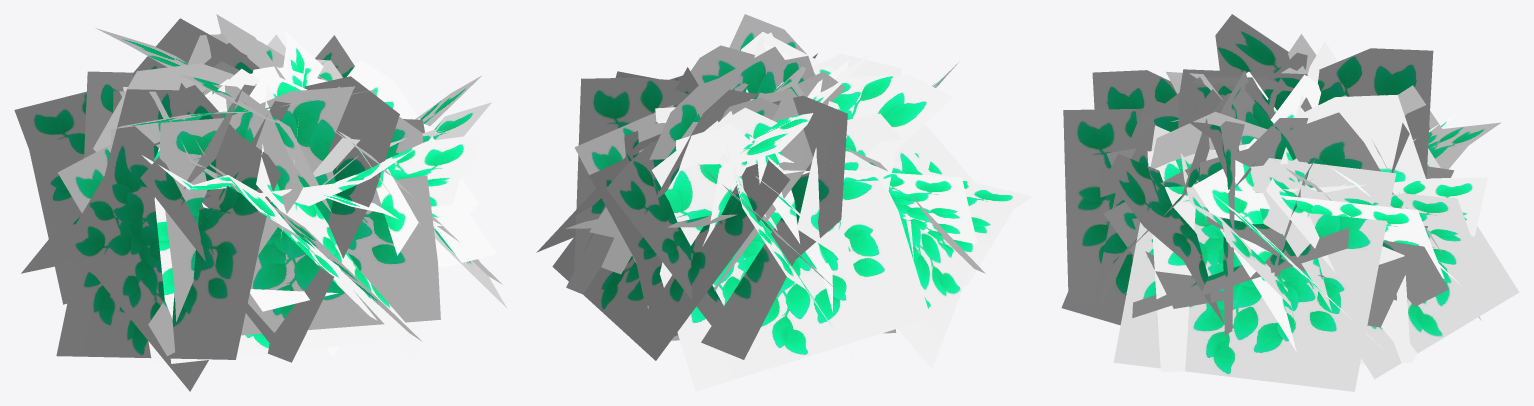
The model's file is ThickBush.fbx.
3 renders of one model, left to right at view 1: azimuth 30°, elevation 25°; view 2: azimuth 150°, elevation 25°; view 3: azimuth 270°, elevation 25°, orthographic. The views are drawn at different scales.
Visible parts, largest first — view 1: Bush_Wes002; view 2: Bush_Wes002; view 3: Bush_Wes002.
Part boxes in pixels (bbox=[...]): Bush_Wes002: bbox=[14, 14, 506, 391]; Bush_Wes002: bbox=[536, 14, 1032, 391]; Bush_Wes002: bbox=[1061, 14, 1519, 391].
Bounding box in the file's own units: 6.58 × 4.1 × 6.05.
